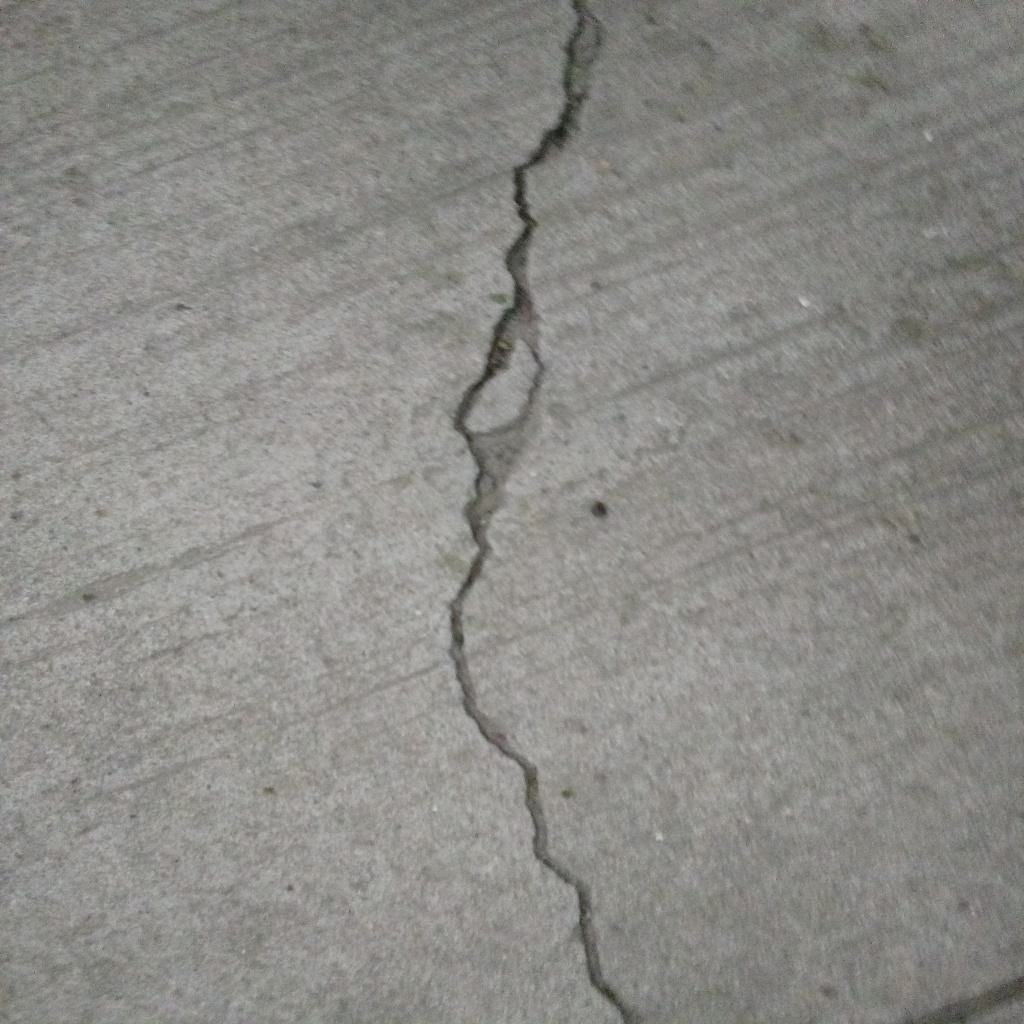Crack: (443, 1, 639, 1024)
